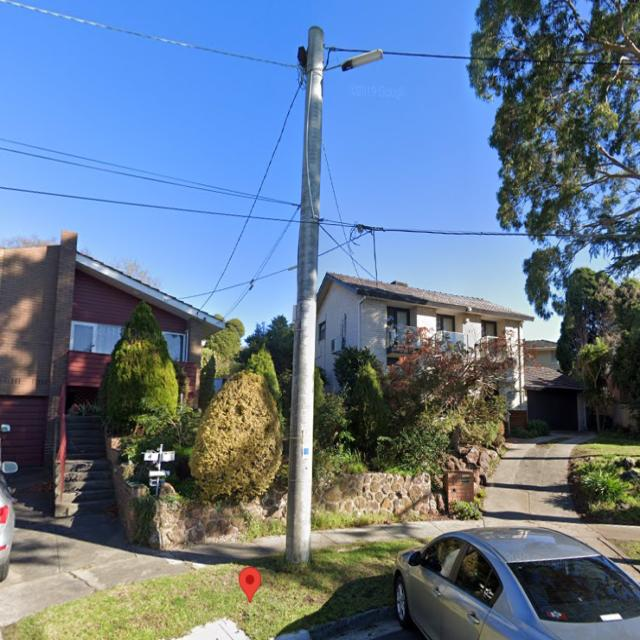concrete-pole: (284, 26, 325, 568)
streetlight: (324, 48, 386, 74)
